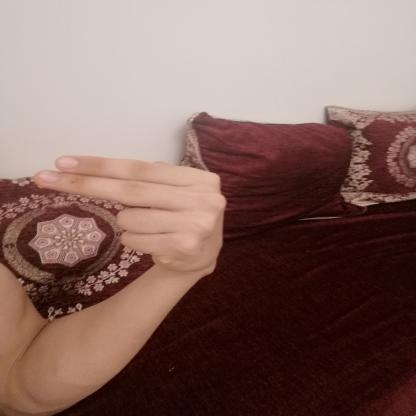AYN: (18, 140, 242, 293)
